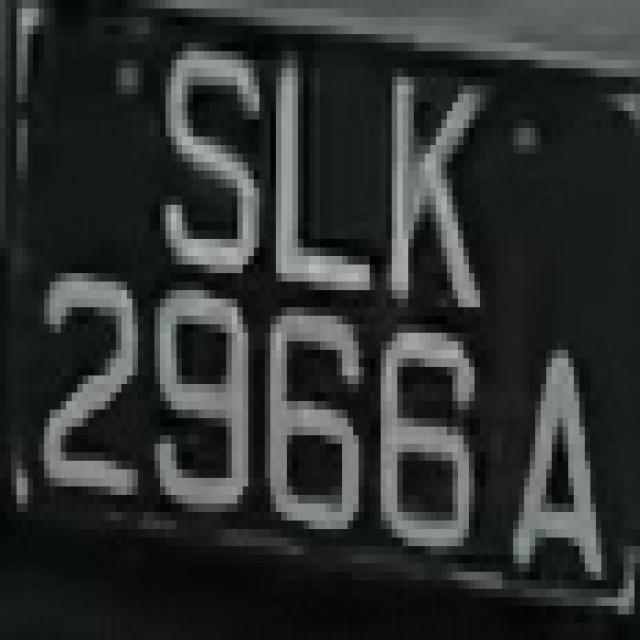2: (39, 230, 127, 512)
6: (248, 273, 381, 529), (381, 316, 480, 580)
9: (132, 239, 254, 546)
A: (496, 316, 624, 623)
K: (358, 59, 486, 316)
L: (248, 34, 392, 324)
S: (149, 17, 248, 307)
